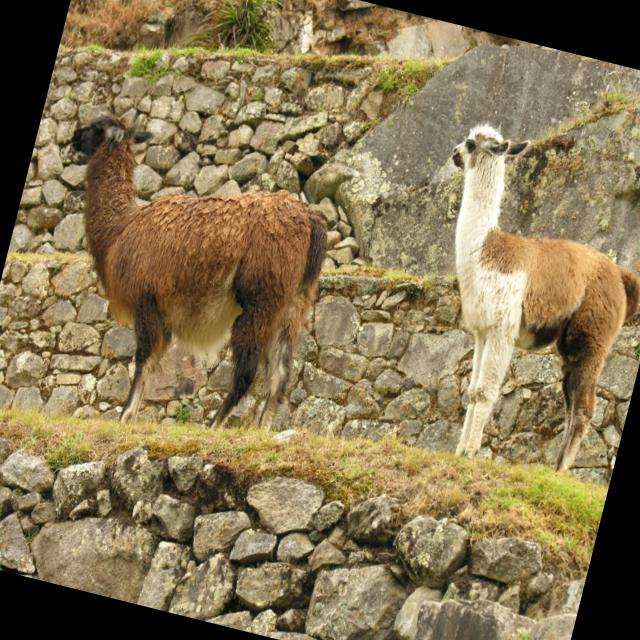alpaca: (7, 105, 346, 463), (381, 118, 640, 490)
